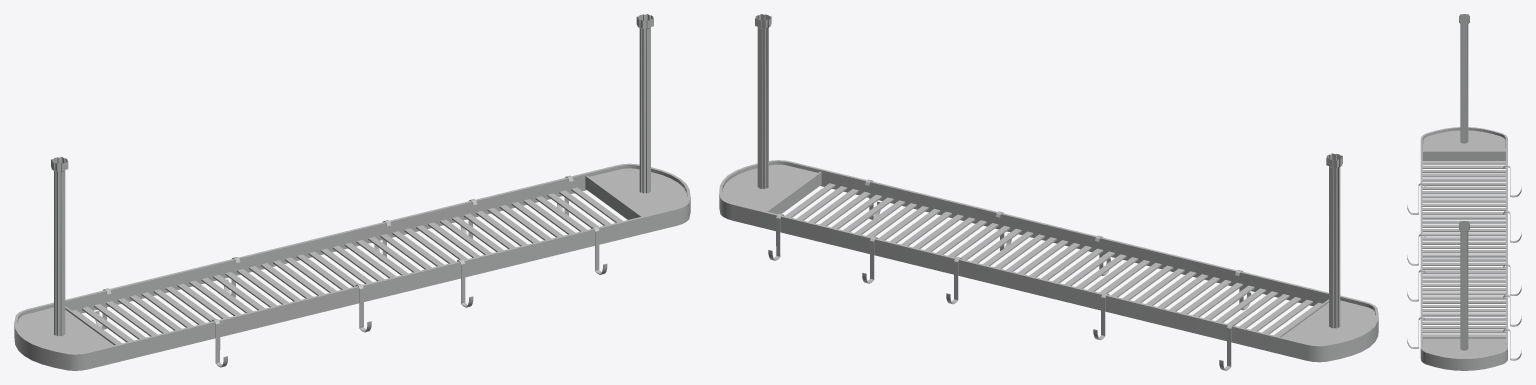
Rendered from Prop_Pot_Racks.fbx.
3 views of the same model, side by side, from view 1: azimuth 30°, elevation 25°; view 2: azimuth 150°, elevation 25°; view 3: azimuth 270°, elevation 25° (orthographic). The views are drawn at different scales.
Parts seen in each view (by area): view 1: Prop_Pot_Racks; view 2: Prop_Pot_Racks; view 3: Prop_Pot_Racks.
Part boxes in pixels (<box>): Prop_Pot_Racks: <box>14,14,690,370</box>; Prop_Pot_Racks: <box>719,14,1378,370</box>; Prop_Pot_Racks: <box>1407,14,1521,370</box>.
Size of the model in its own units: 165 by 50.79 by 34.37.
